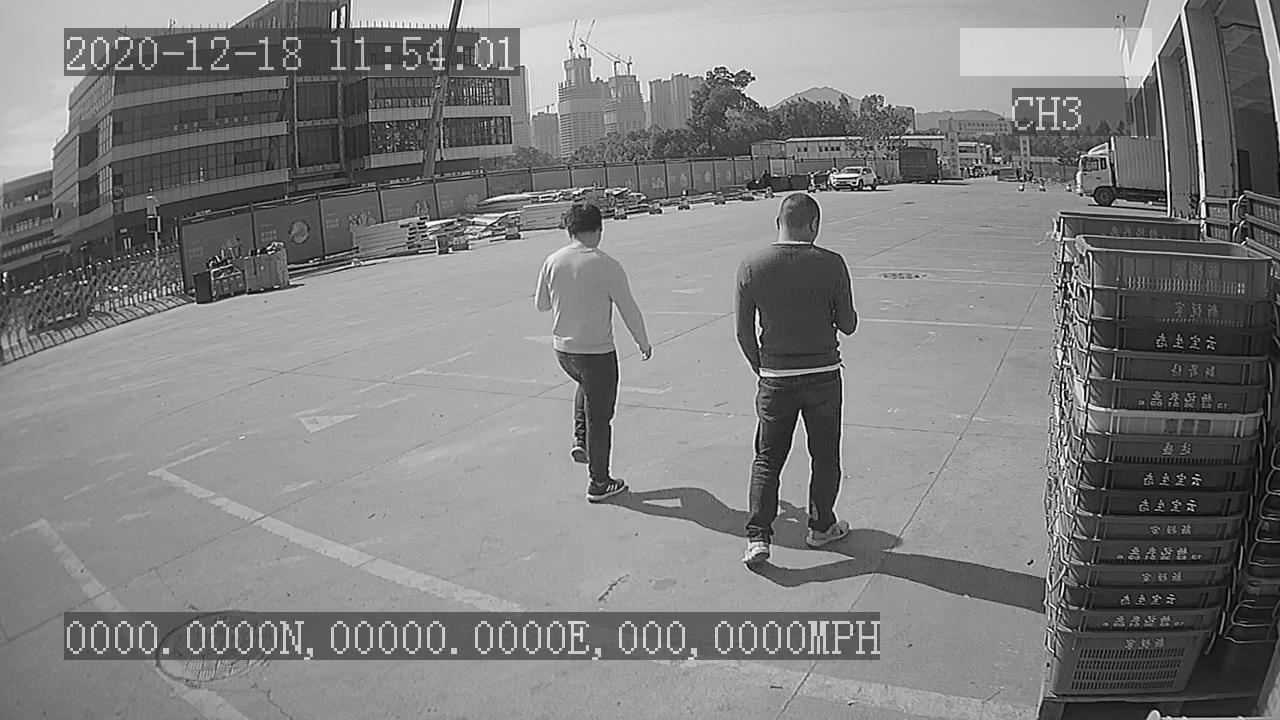person: (718, 190, 854, 577), (535, 199, 659, 513)
